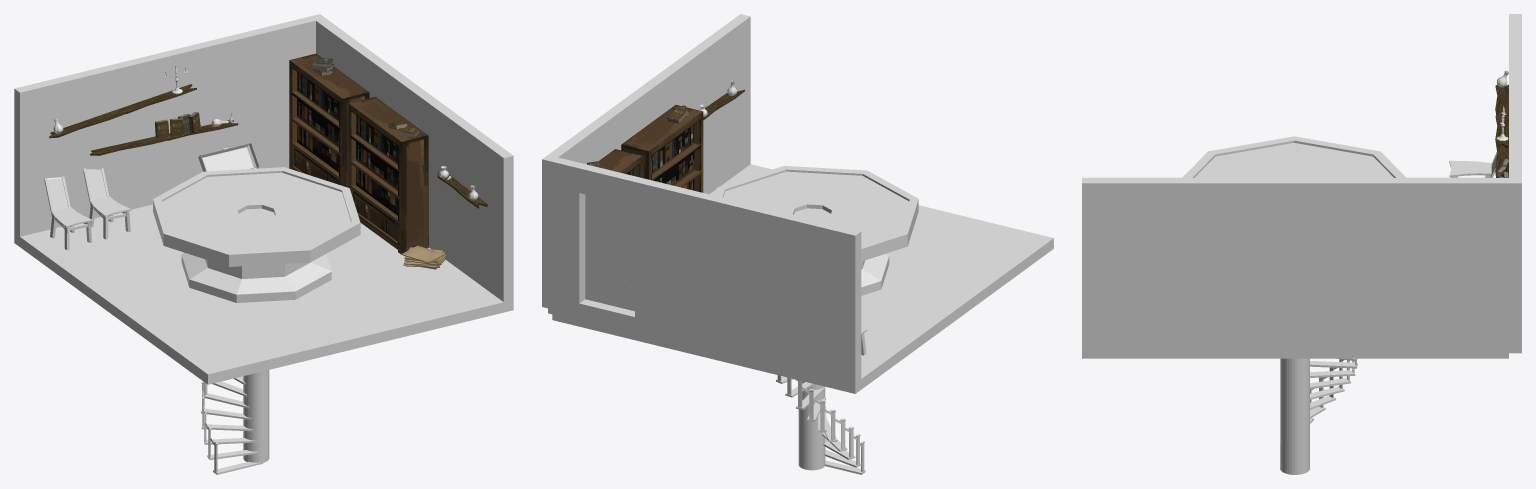
File: Level-4-v3.fbx
3 views of the same model, side by side, from view 1: azimuth 30°, elevation 25°; view 2: azimuth 150°, elevation 25°; view 3: azimuth 270°, elevation 25° (orthographic). The views are drawn at different scales.
Parts seen in each view (by area): view 1: Interior.001, Table_Stone_Round_001, Bookshelf.001, Bookshelf, Pole, StairCase, Chair, Chair.001, Table_Stone_Round_007, Table_Stone_Round_008, Table_Stone_Round_006, Table_Stone_Round_009 (+9 smaller); view 2: Interior.001, Bookshelf.001, Table_Stone_Round_001, StairCase, Pole, Table_Stone_Round_002, Table_Stone_Round_009, Table_Stone_Round_003, Table_Stone_Round_004, Bookshelf, Table_Stone_Round_005, Table_Stone_Round_008; view 3: Interior.001, Pole, Table_Stone_Round_001, Table_Stone_Round_004, Table_Stone_Round_005, StairCase, Table_Stone_Round_003, Table_Stone_Round_006, Chair.
Part boxes in pixels (bbox=[...]): Interior.001: bbox=[14, 14, 513, 384]; Table_Stone_Round_001: bbox=[153, 167, 360, 302]; Bookshelf.001: bbox=[348, 97, 428, 253]; Bookshelf: bbox=[289, 53, 369, 187]; Pole: bbox=[243, 370, 269, 462]; StairCase: bbox=[201, 376, 263, 474]; Chair: bbox=[44, 176, 92, 250]; Chair.001: bbox=[83, 168, 131, 239]; Table_Stone_Round_007: bbox=[208, 172, 281, 209]; Table_Stone_Round_008: bbox=[262, 172, 341, 212]; Table_Stone_Round_006: bbox=[162, 177, 246, 213]; Table_Stone_Round_009: bbox=[274, 192, 350, 223]; Interior.001: bbox=[542, 14, 1053, 393]; Bookshelf.001: bbox=[621, 105, 703, 192]; Table_Stone_Round_001: bbox=[714, 166, 918, 295]; StairCase: bbox=[776, 375, 865, 474]; Pole: bbox=[798, 381, 825, 470]; Table_Stone_Round_002: bbox=[786, 171, 861, 208]; Table_Stone_Round_009: bbox=[725, 172, 806, 211]; Table_Stone_Round_003: bbox=[822, 176, 908, 213]; Table_Stone_Round_004: bbox=[830, 202, 908, 233]; Bookshelf: bbox=[599, 149, 642, 177]; Table_Stone_Round_005: bbox=[818, 217, 895, 244]; Table_Stone_Round_008: bbox=[723, 191, 794, 214]; Interior.001: bbox=[1082, 14, 1521, 358]; Pole: bbox=[1280, 358, 1309, 474]; Table_Stone_Round_001: bbox=[1182, 136, 1406, 177]; Table_Stone_Round_004: bbox=[1216, 143, 1294, 177]; Table_Stone_Round_005: bbox=[1294, 143, 1372, 177]; StairCase: bbox=[1280, 358, 1357, 469]; Table_Stone_Round_003: bbox=[1195, 156, 1265, 177]; Table_Stone_Round_006: bbox=[1323, 157, 1393, 177]; Chair: bbox=[1449, 152, 1497, 177].
Bounding box in the file's own units: 927 × 961 × 1017.
Materials: 16 (5 with a texture image).
